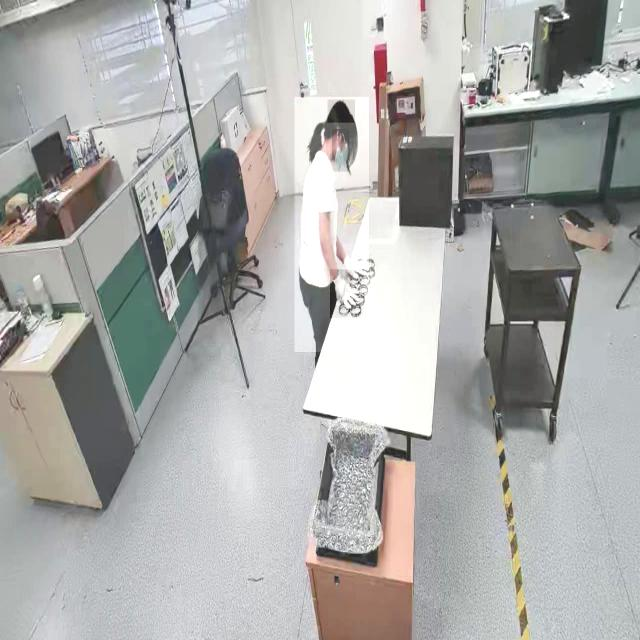face_mask: (332, 129, 350, 171)
hand_glove: (330, 269, 364, 319), (342, 244, 368, 288)
head_nohelmet: (327, 100, 355, 124)
person: (294, 97, 369, 353)
